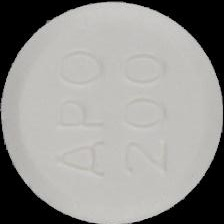60429-032: (0, 0, 224, 224)
